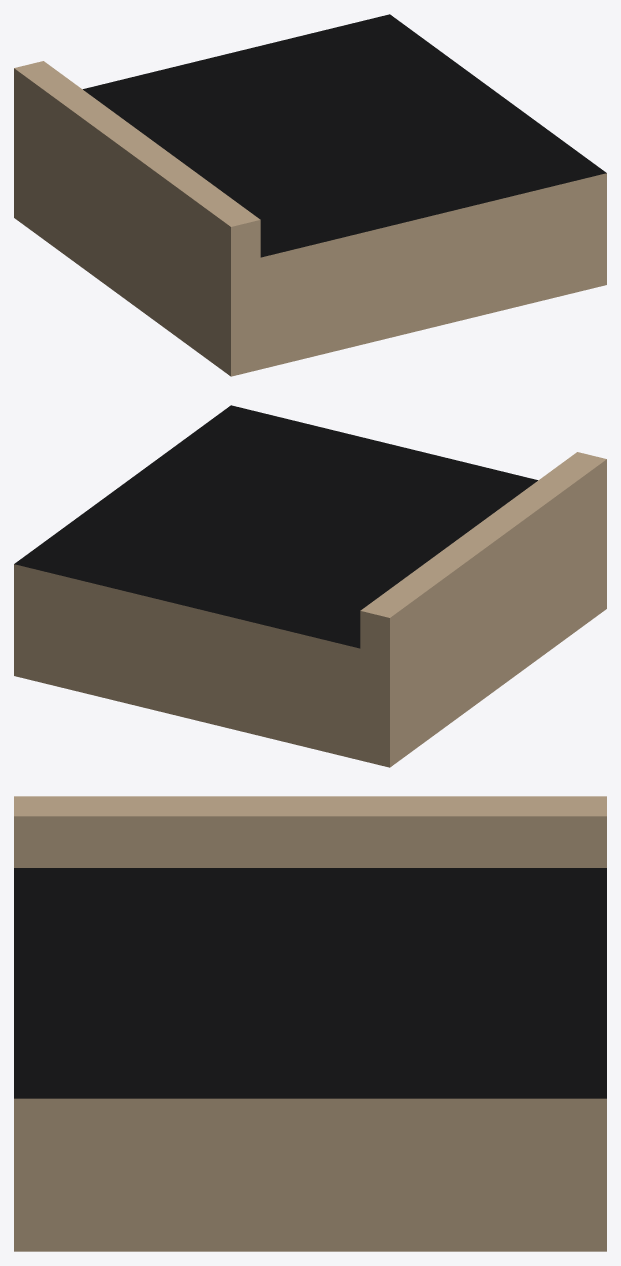
The model's file is rooftop.2.obj.
3 renders of one model, top to bottom at view 1: azimuth 30°, elevation 25°; view 2: azimuth 150°, elevation 25°; view 3: azimuth 270°, elevation 25°, orthographic. The views are drawn at different scales.
Parts seen in each view (by area): view 1: Cube.031_Cube.027; view 2: Cube.031_Cube.027; view 3: Cube.031_Cube.027.
Boxes of the visible parts, x1=… form: Cube.031_Cube.027: x1=14, y1=14, x2=606, y2=376; Cube.031_Cube.027: x1=14, y1=405, x2=606, y2=767; Cube.031_Cube.027: x1=14, y1=796, x2=606, y2=1251.
Bounding box in the file's own units: 3.66 × 1.39 × 3.66.
